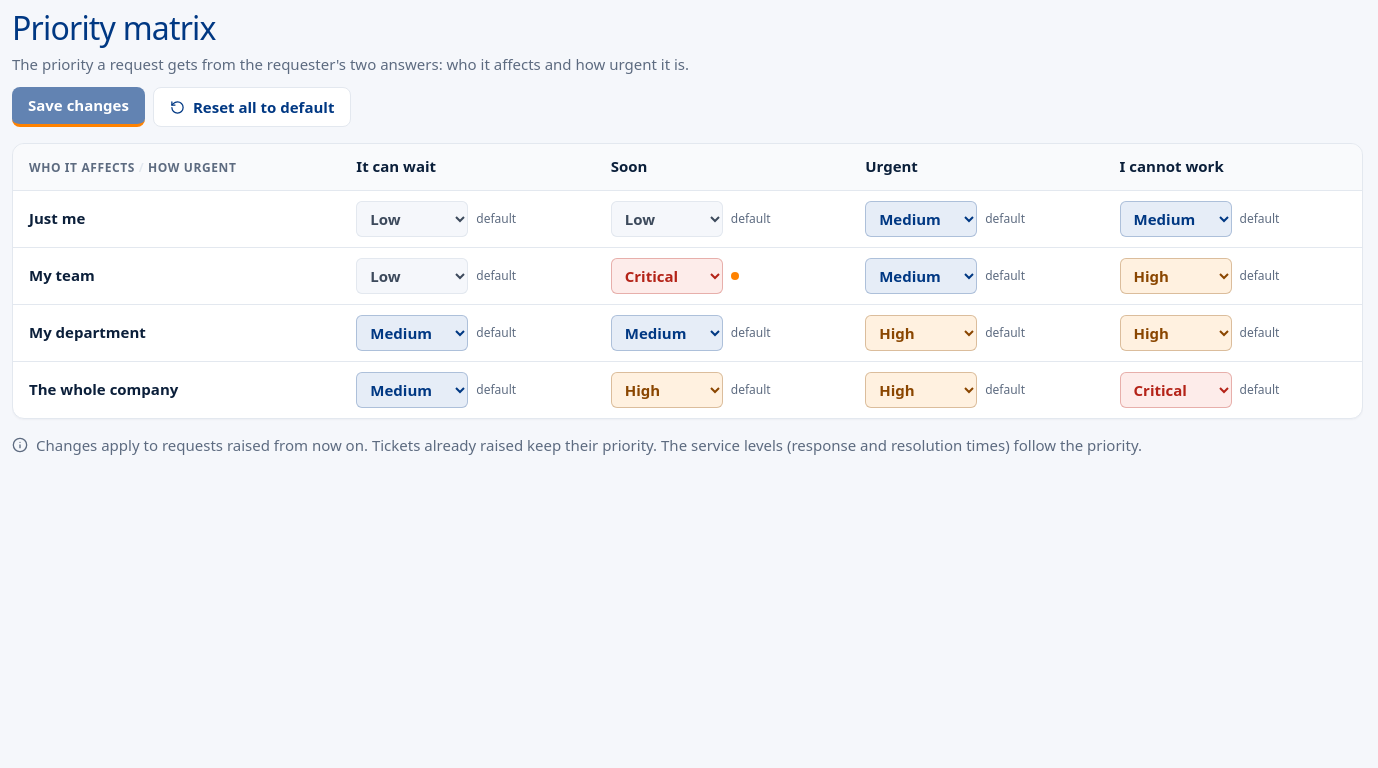
Priority matrix › shows impact rows and urgency columns, marks default and edited cells, and saves only the changed cells
Expected: the heading "Priority matrix" is shown, [12,6,216,49]
Expected: the cell with test id "cell-1-1" reads "default", [476,210,516,227]
Note: Two cells changed, one of them changed back: only one goes.
Select "High" in the dropdown named "Just me, Urgent" at (921, 219), box [865,201,977,237]
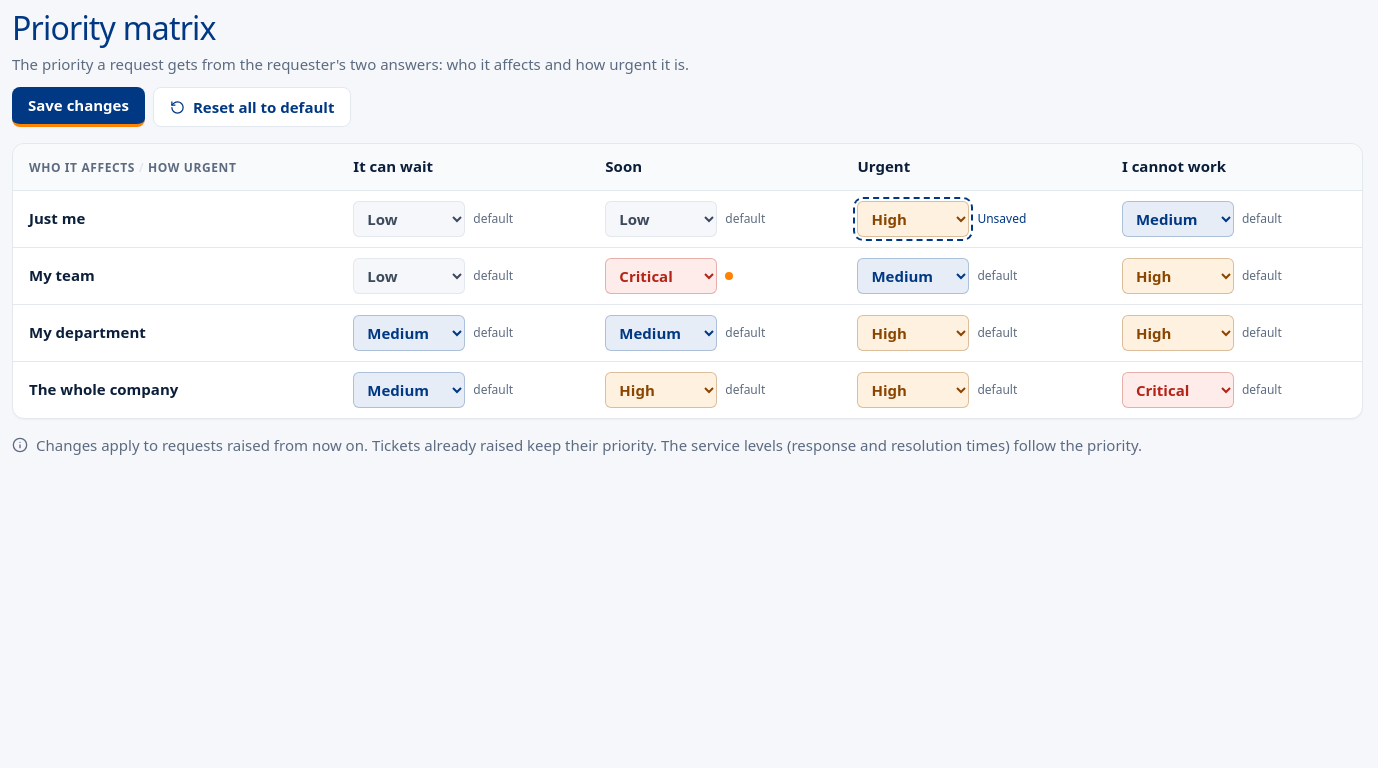
Select "Low" in the dropdown named "My department, Soon" at (661, 333), box [605,315,717,351]
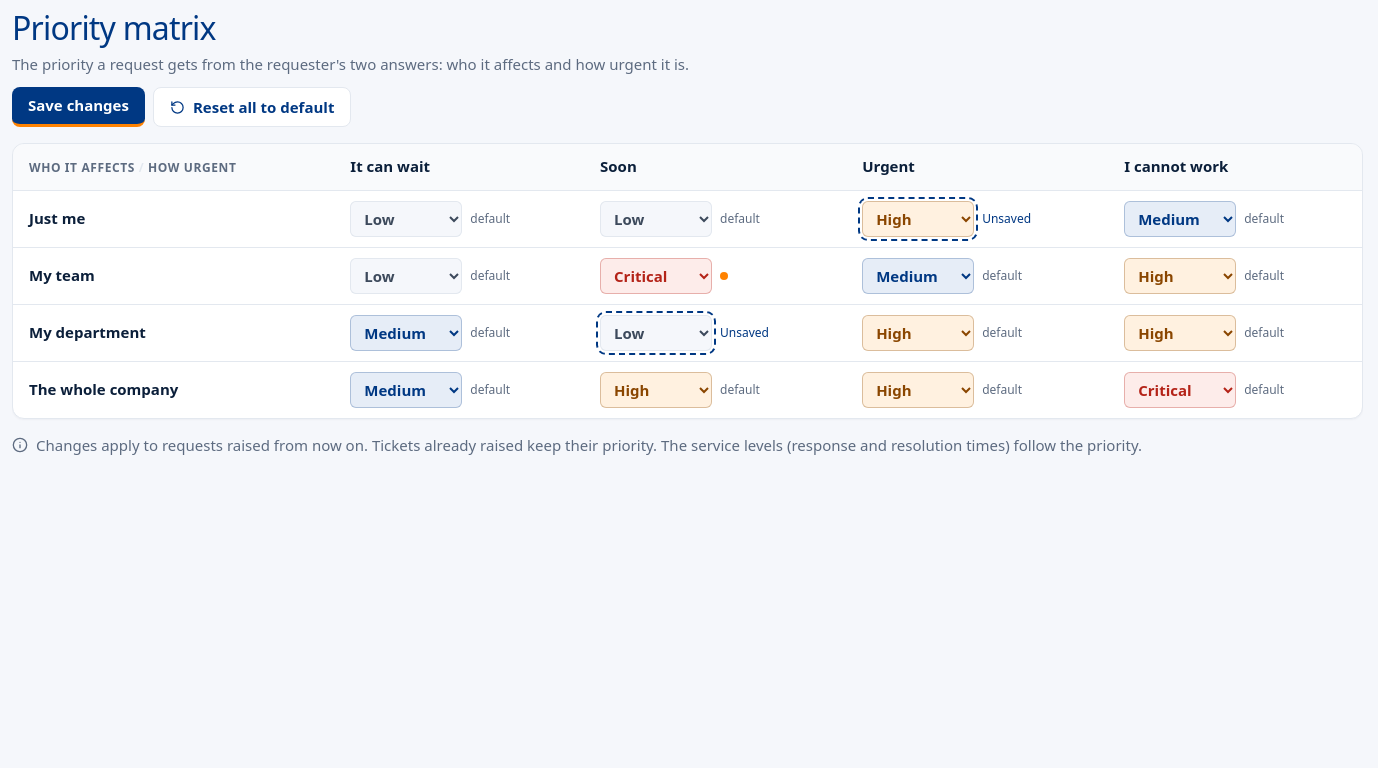
Select "Medium" in the dropdown named "My department, Soon" at (656, 333), box [600,315,712,351]
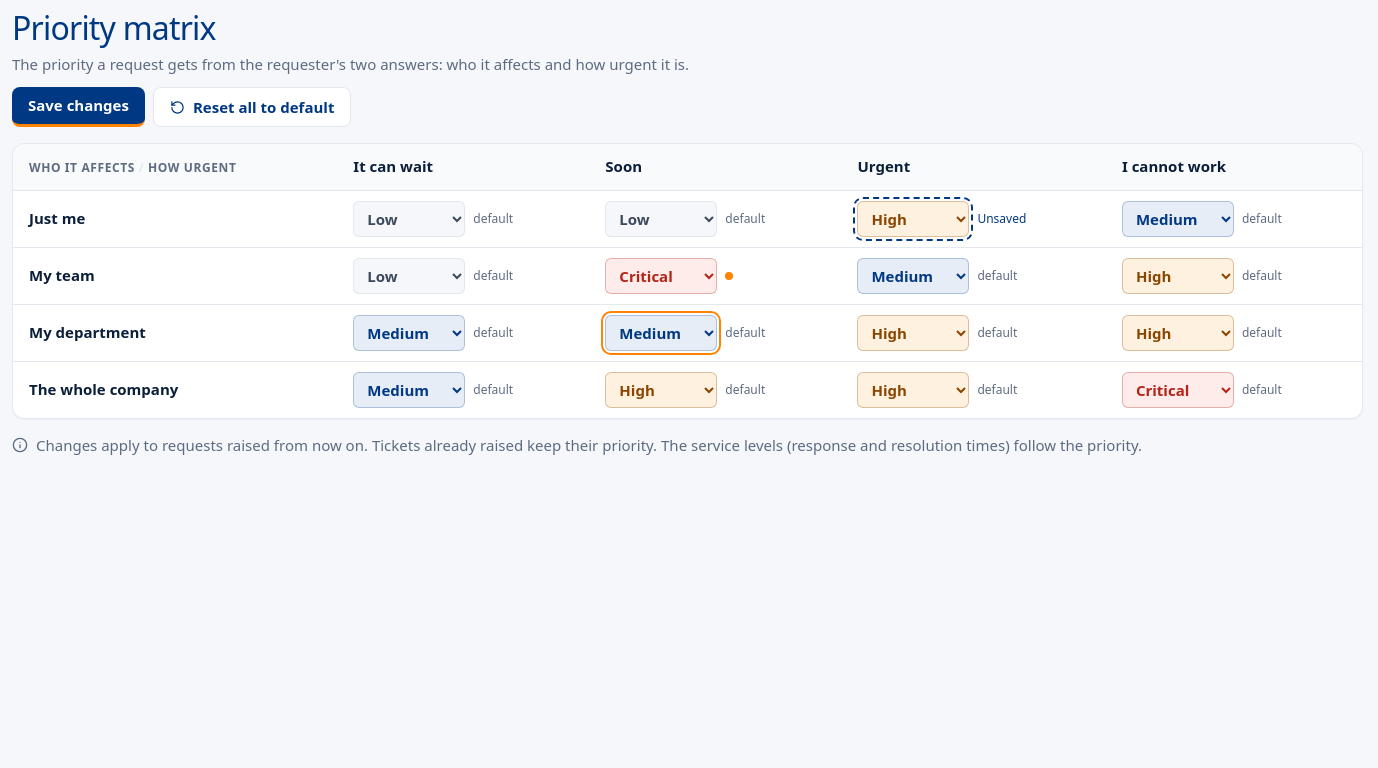
Now the cell with test id "cell-1-3" reads "Unsaved", box [977,210,1026,227]
Click the button "Save changes" at (78, 107), box [12,87,145,127]
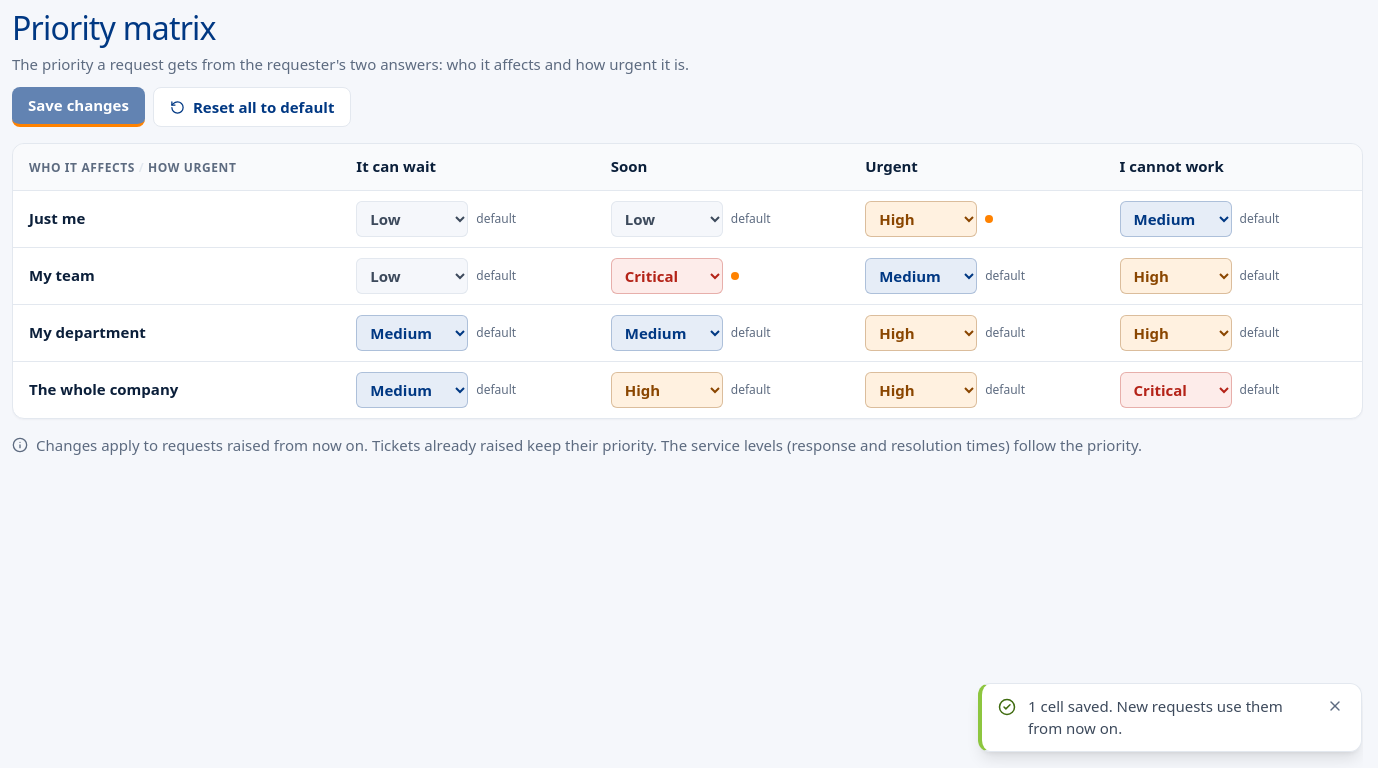
Now the text "1 cell saved. New requests use them from now on." is shown, box [1028,696,1313,739]
Now the button "Save changes" is disabled, box [12,87,145,127]
